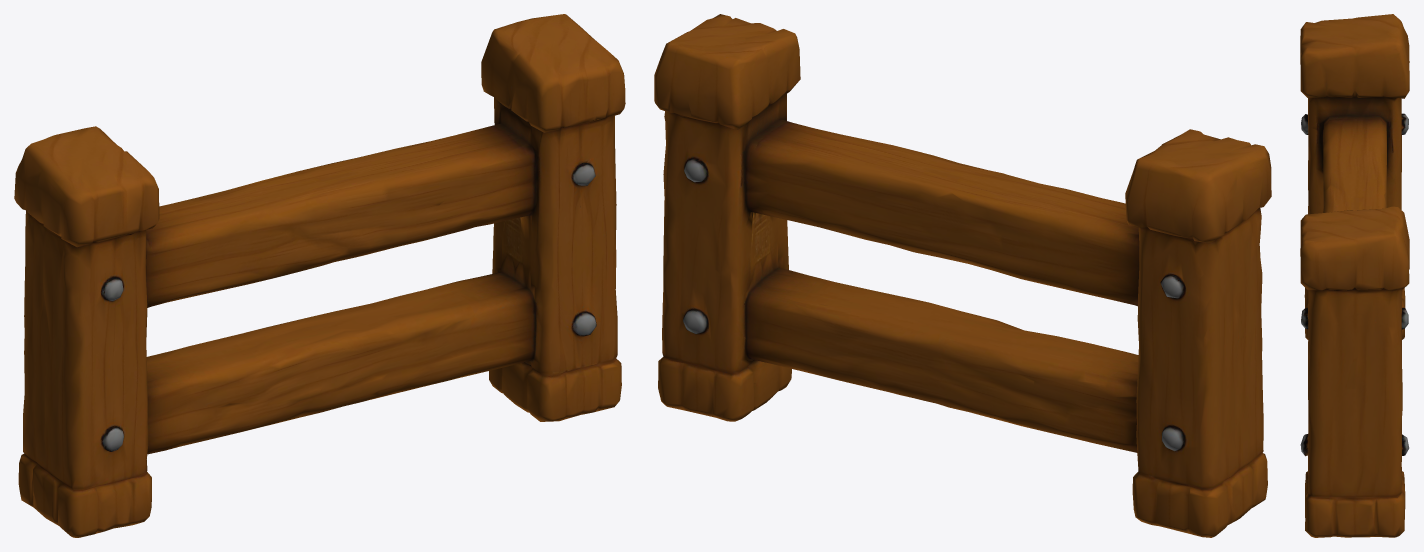
Rendered from fence.glb.
The picture shows the model from 3 angles, left to right: view 1: azimuth 30°, elevation 25°; view 2: azimuth 150°, elevation 25°; view 3: azimuth 270°, elevation 25°; orthographic projection. The views are drawn at different scales.
Visible parts, largest first — view 1: tripo_node_6830fdfa-3dad-4a0b-8066-4703c9c28f8e; view 2: tripo_node_6830fdfa-3dad-4a0b-8066-4703c9c28f8e; view 3: tripo_node_6830fdfa-3dad-4a0b-8066-4703c9c28f8e.
Part boxes in pixels (x1,y1,x2,y2): tripo_node_6830fdfa-3dad-4a0b-8066-4703c9c28f8e: [14, 14, 625, 537]; tripo_node_6830fdfa-3dad-4a0b-8066-4703c9c28f8e: [654, 14, 1271, 537]; tripo_node_6830fdfa-3dad-4a0b-8066-4703c9c28f8e: [1300, 14, 1409, 537].
Bounding box in the file's own units: 1 × 0.6147 × 0.2013.
Materials: 1 (1 with a texture image).
